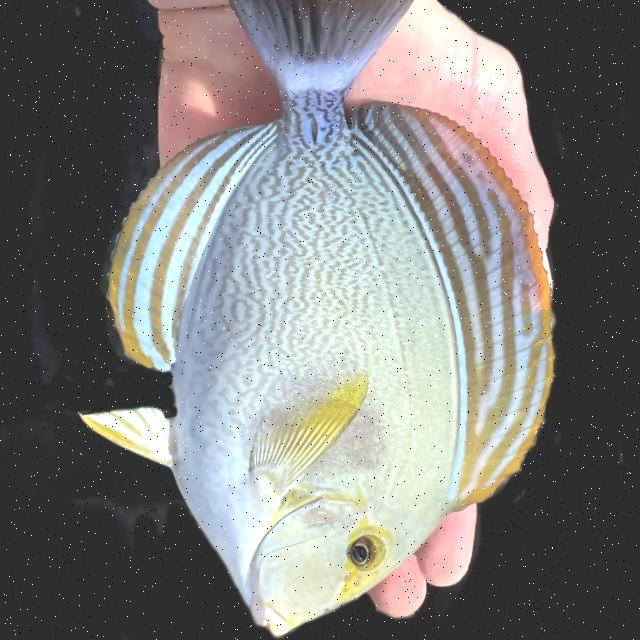Mulut: (209, 572, 317, 640)
Sirip Anal: (92, 110, 288, 386)
Sirip Dada: (229, 354, 387, 500)
Sirip Ekor: (191, 0, 439, 100)
Sirip Perut: (69, 392, 187, 482)
Sirip Punggung: (340, 90, 564, 520)
